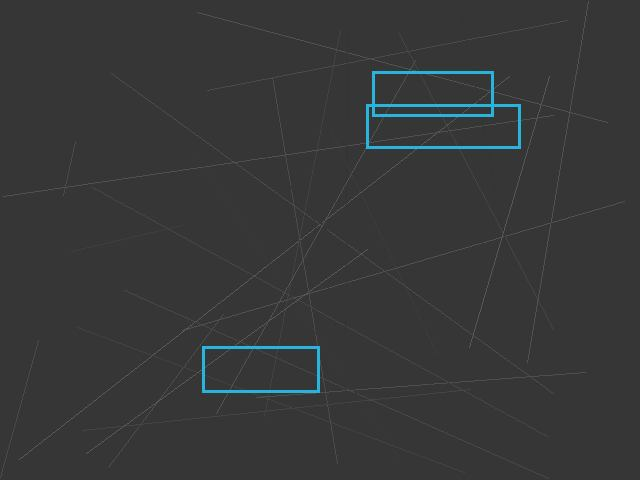D10: (366, 104, 520, 148), (372, 71, 493, 116), (202, 346, 319, 392)
